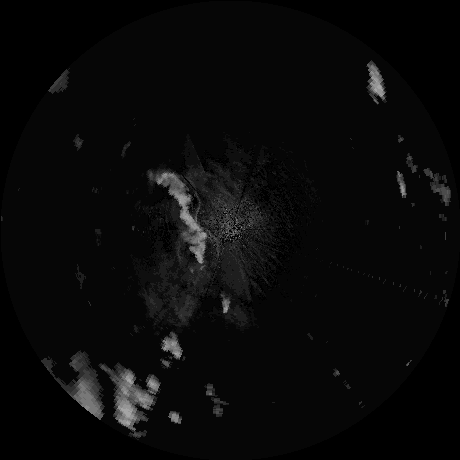frontgust: (186, 174, 201, 222), (202, 226, 221, 258)
